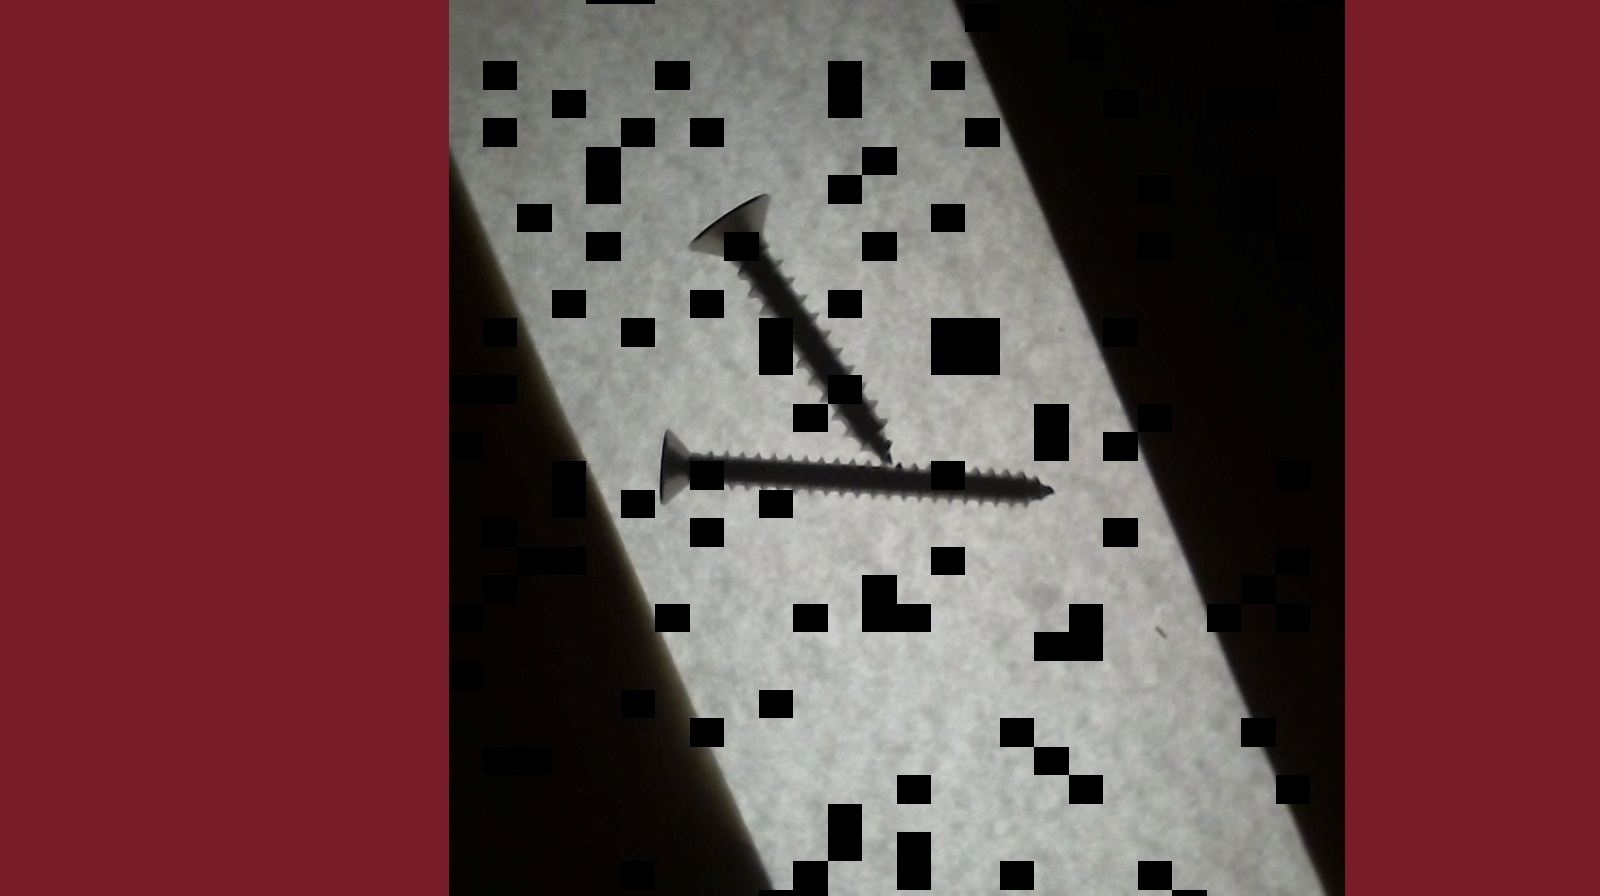S001: (678, 180, 903, 469)
S002: (654, 421, 1059, 513)
